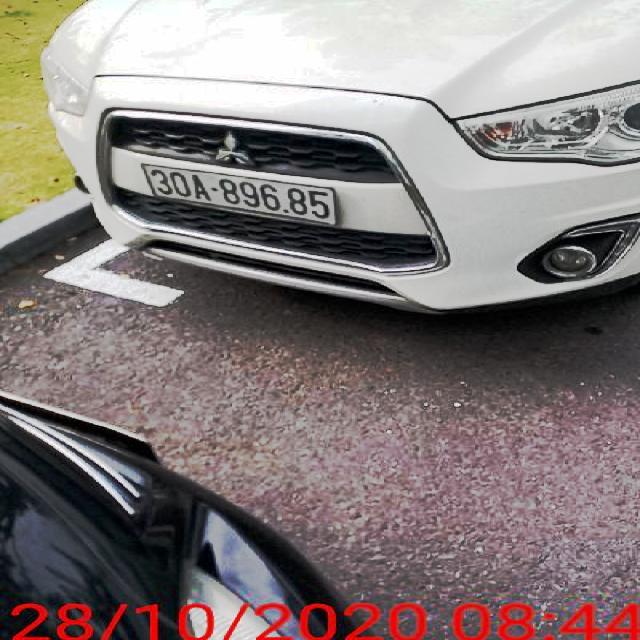license_plate: (143, 166, 337, 225)
